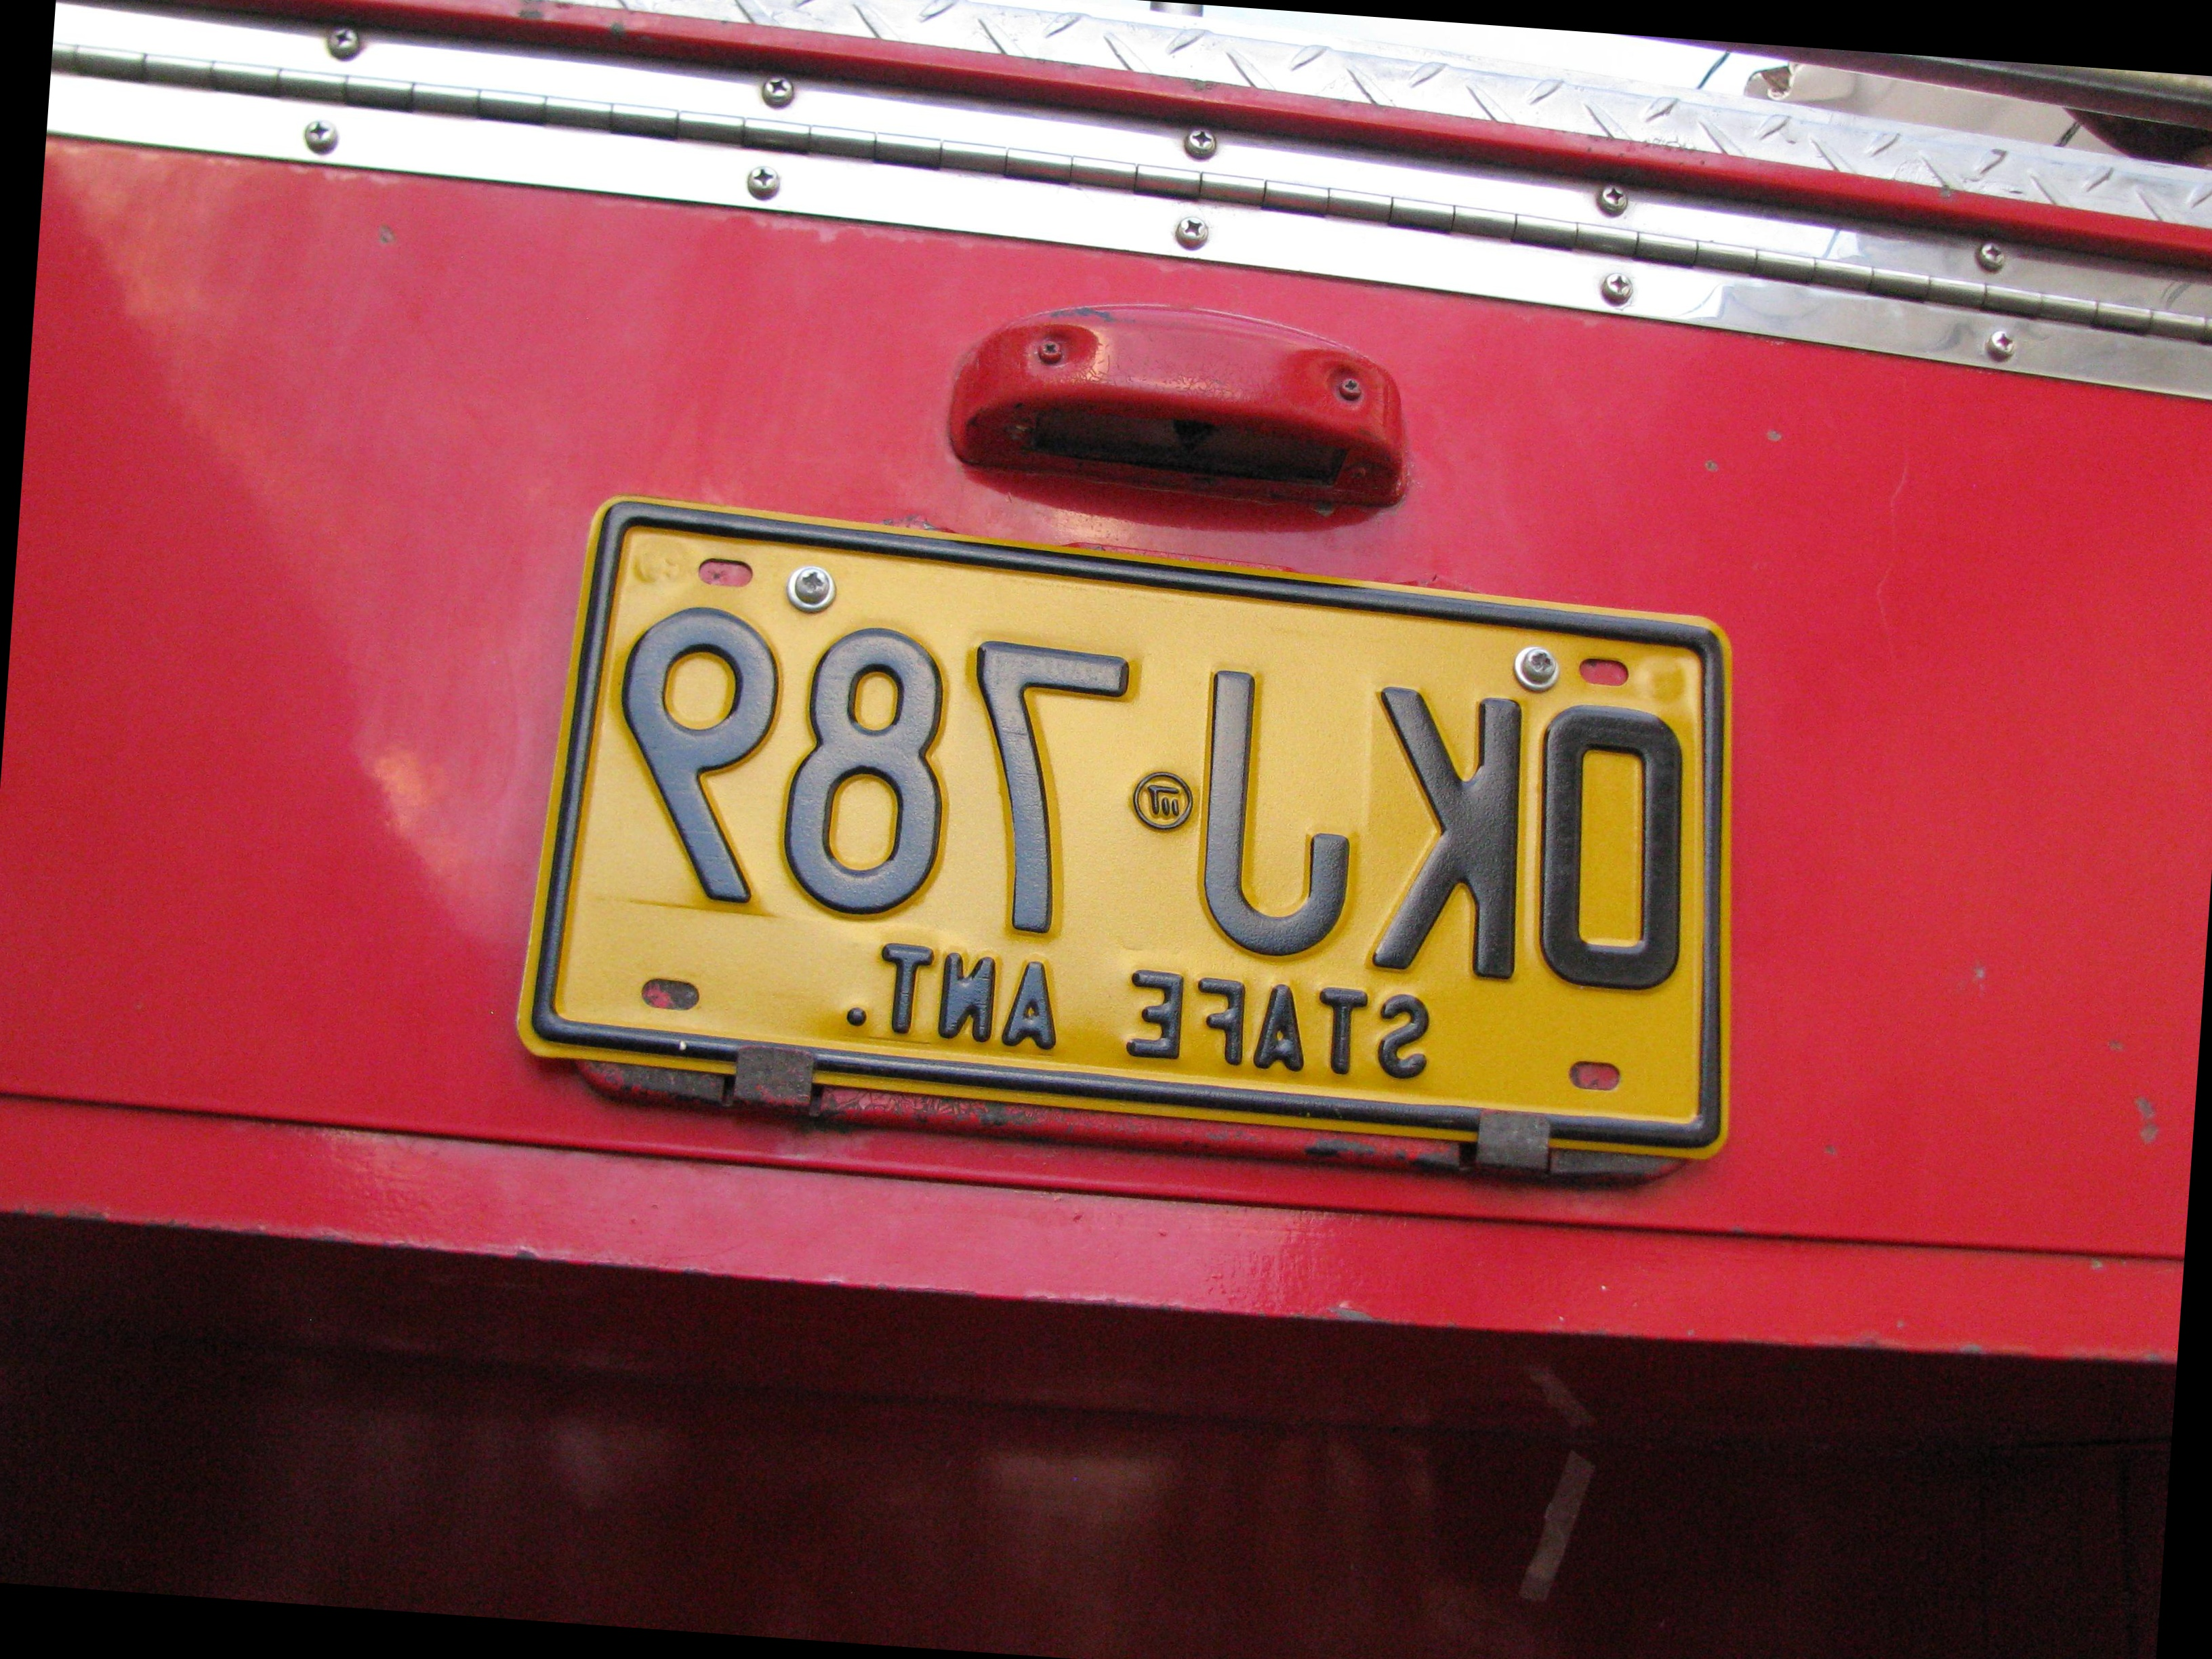placas: (505, 476, 1777, 1174)
